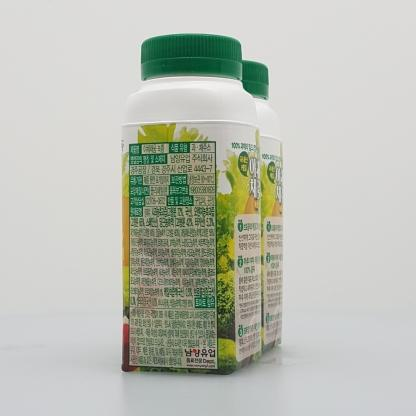---------190ML: (120, 34, 263, 375)
